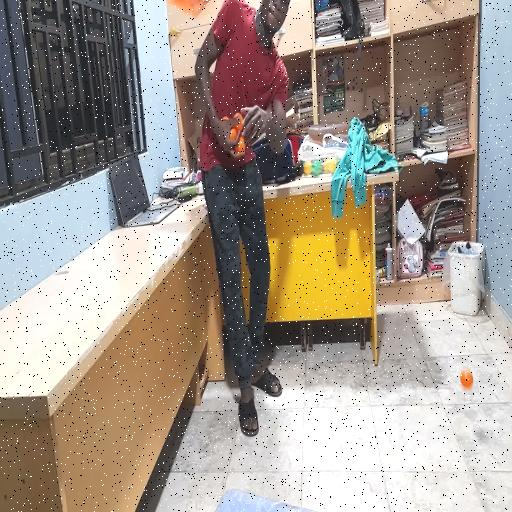plastic-ball: (168, 0, 209, 18)
